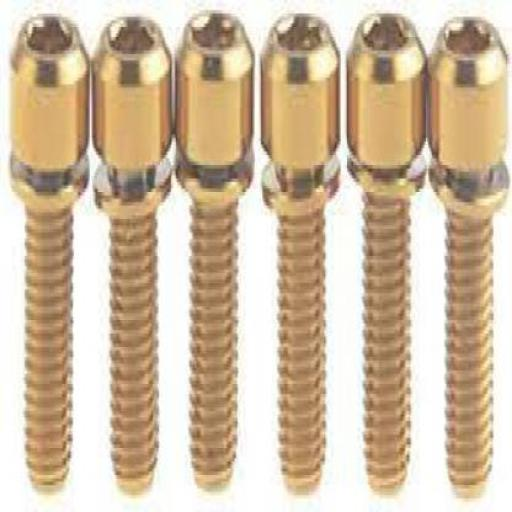bolt: (344, 12, 430, 500), (258, 12, 344, 500), (424, 14, 510, 500), (171, 8, 257, 494), (90, 14, 176, 500), (9, 12, 92, 500)
